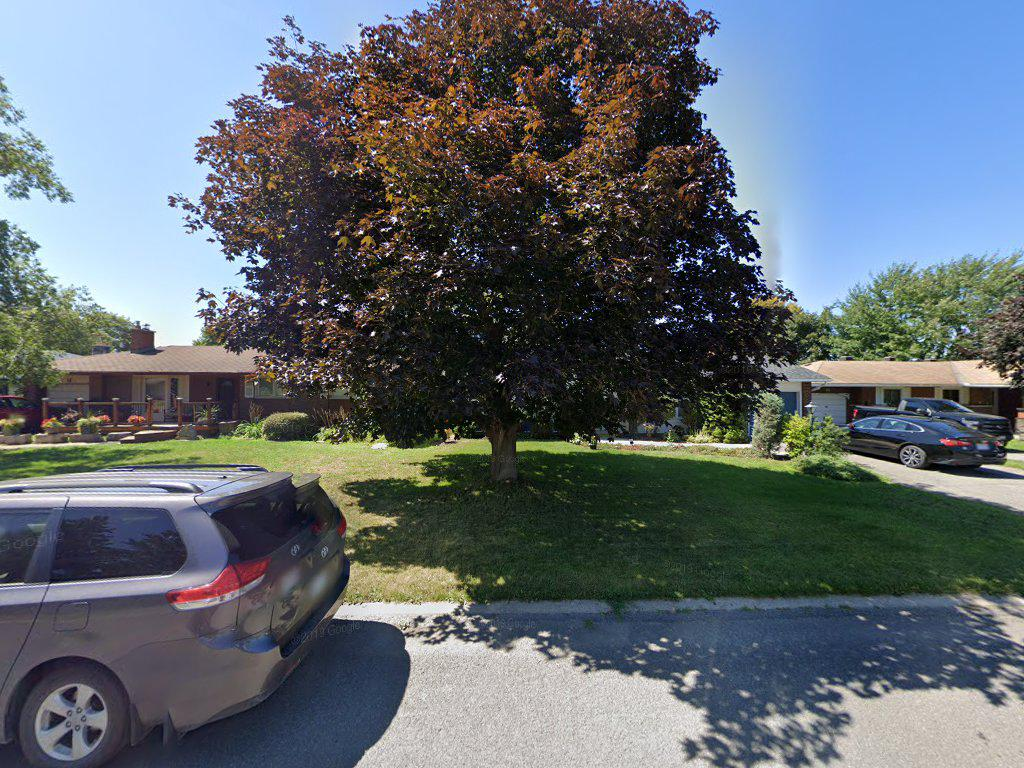trunk: (487, 427, 528, 492)
